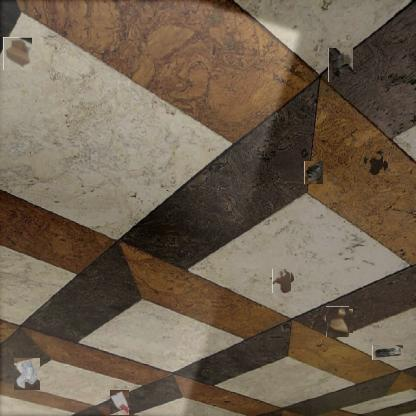dirty: (2, 38, 33, 69), (326, 51, 356, 80), (14, 358, 40, 390), (324, 308, 351, 335), (109, 390, 130, 416), (372, 344, 403, 360), (304, 160, 323, 184)
liquid: (271, 271, 293, 292), (366, 153, 386, 173)
